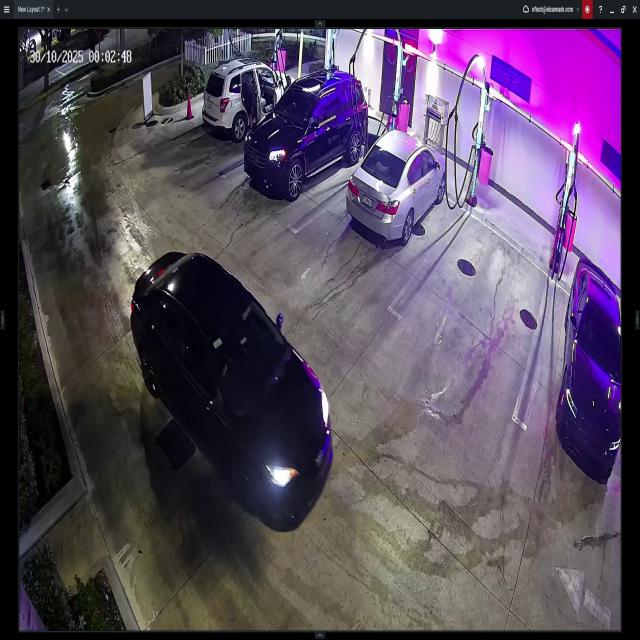Car: (132, 247, 334, 530), (243, 69, 366, 195), (555, 257, 622, 482), (348, 131, 445, 243), (203, 60, 294, 136)
